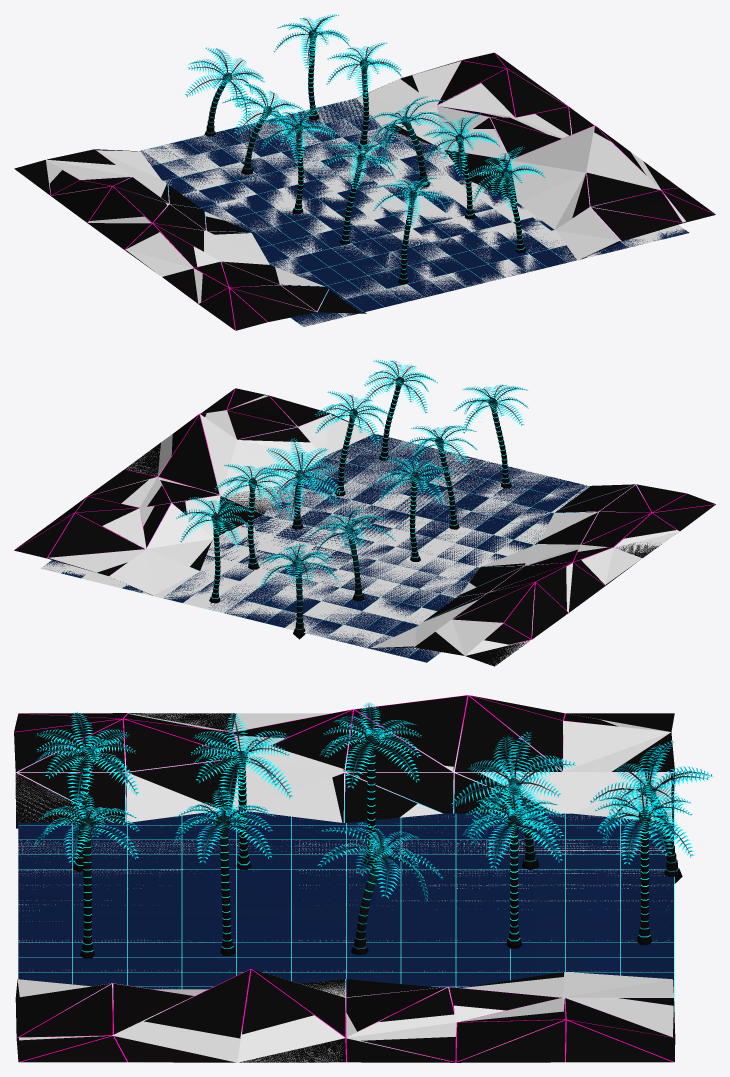
The model's file is Terrain_Palm_1.fbx.
The picture shows the model from 3 angles, top to bottom: view 1: azimuth 30°, elevation 25°; view 2: azimuth 150°, elevation 25°; view 3: azimuth 270°, elevation 25°; orthographic projection. The views are drawn at different scales.
Parts seen in each view (by area): view 1: Terrain_Palm_1, Terrain_Palm_1_Colider; view 2: Terrain_Palm_1, Terrain_Palm_1_Colider; view 3: Terrain_Palm_1, Terrain_Palm_1_Colider.
Boxes of the visible parts, x1=… form: Terrain_Palm_1: x1=14, y1=14, x2=715, y2=330; Terrain_Palm_1_Colider: x1=46, y1=61, x2=687, y2=326; Terrain_Palm_1: x1=14, y1=359, x2=715, y2=666; Terrain_Palm_1_Colider: x1=41, y1=395, x2=679, y2=665; Terrain_Palm_1: x1=14, y1=695, x2=713, y2=1062; Terrain_Palm_1_Colider: x1=15, y1=705, x2=674, y2=1062.
Size of the model in its own units: 5770 by 1247 by 4919.
2 materials, 2 textured.
